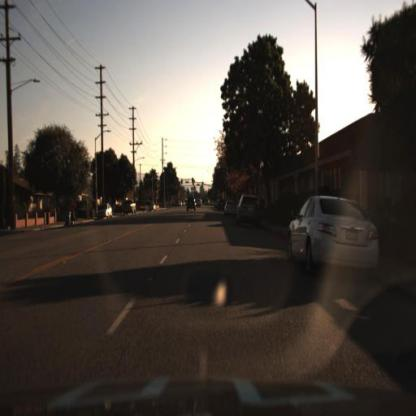car: (287, 196, 380, 282), (235, 191, 264, 226), (94, 202, 115, 227), (124, 196, 141, 216), (98, 203, 114, 221), (186, 197, 196, 213)
